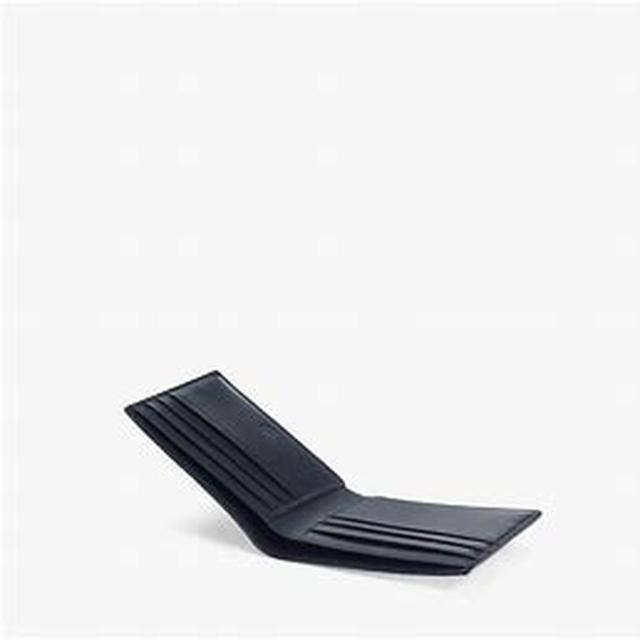wallet: (139, 359, 523, 580)
